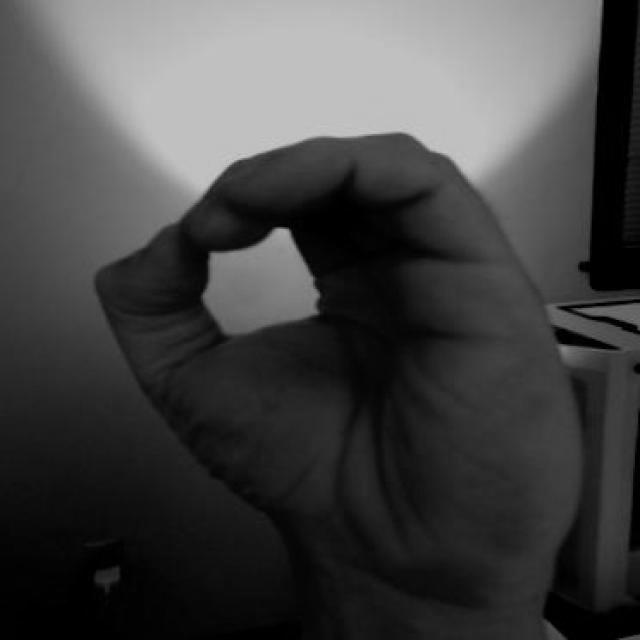O: (66, 109, 613, 608)
